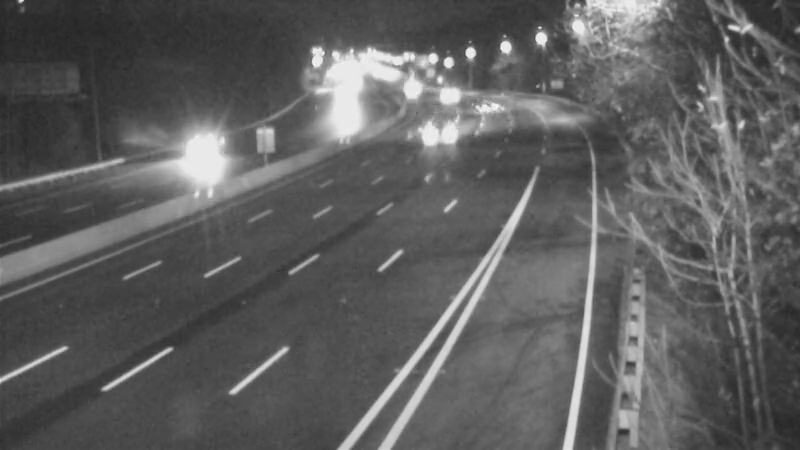vehicle: (187, 123, 267, 203), (463, 83, 513, 133), (419, 105, 469, 155)
